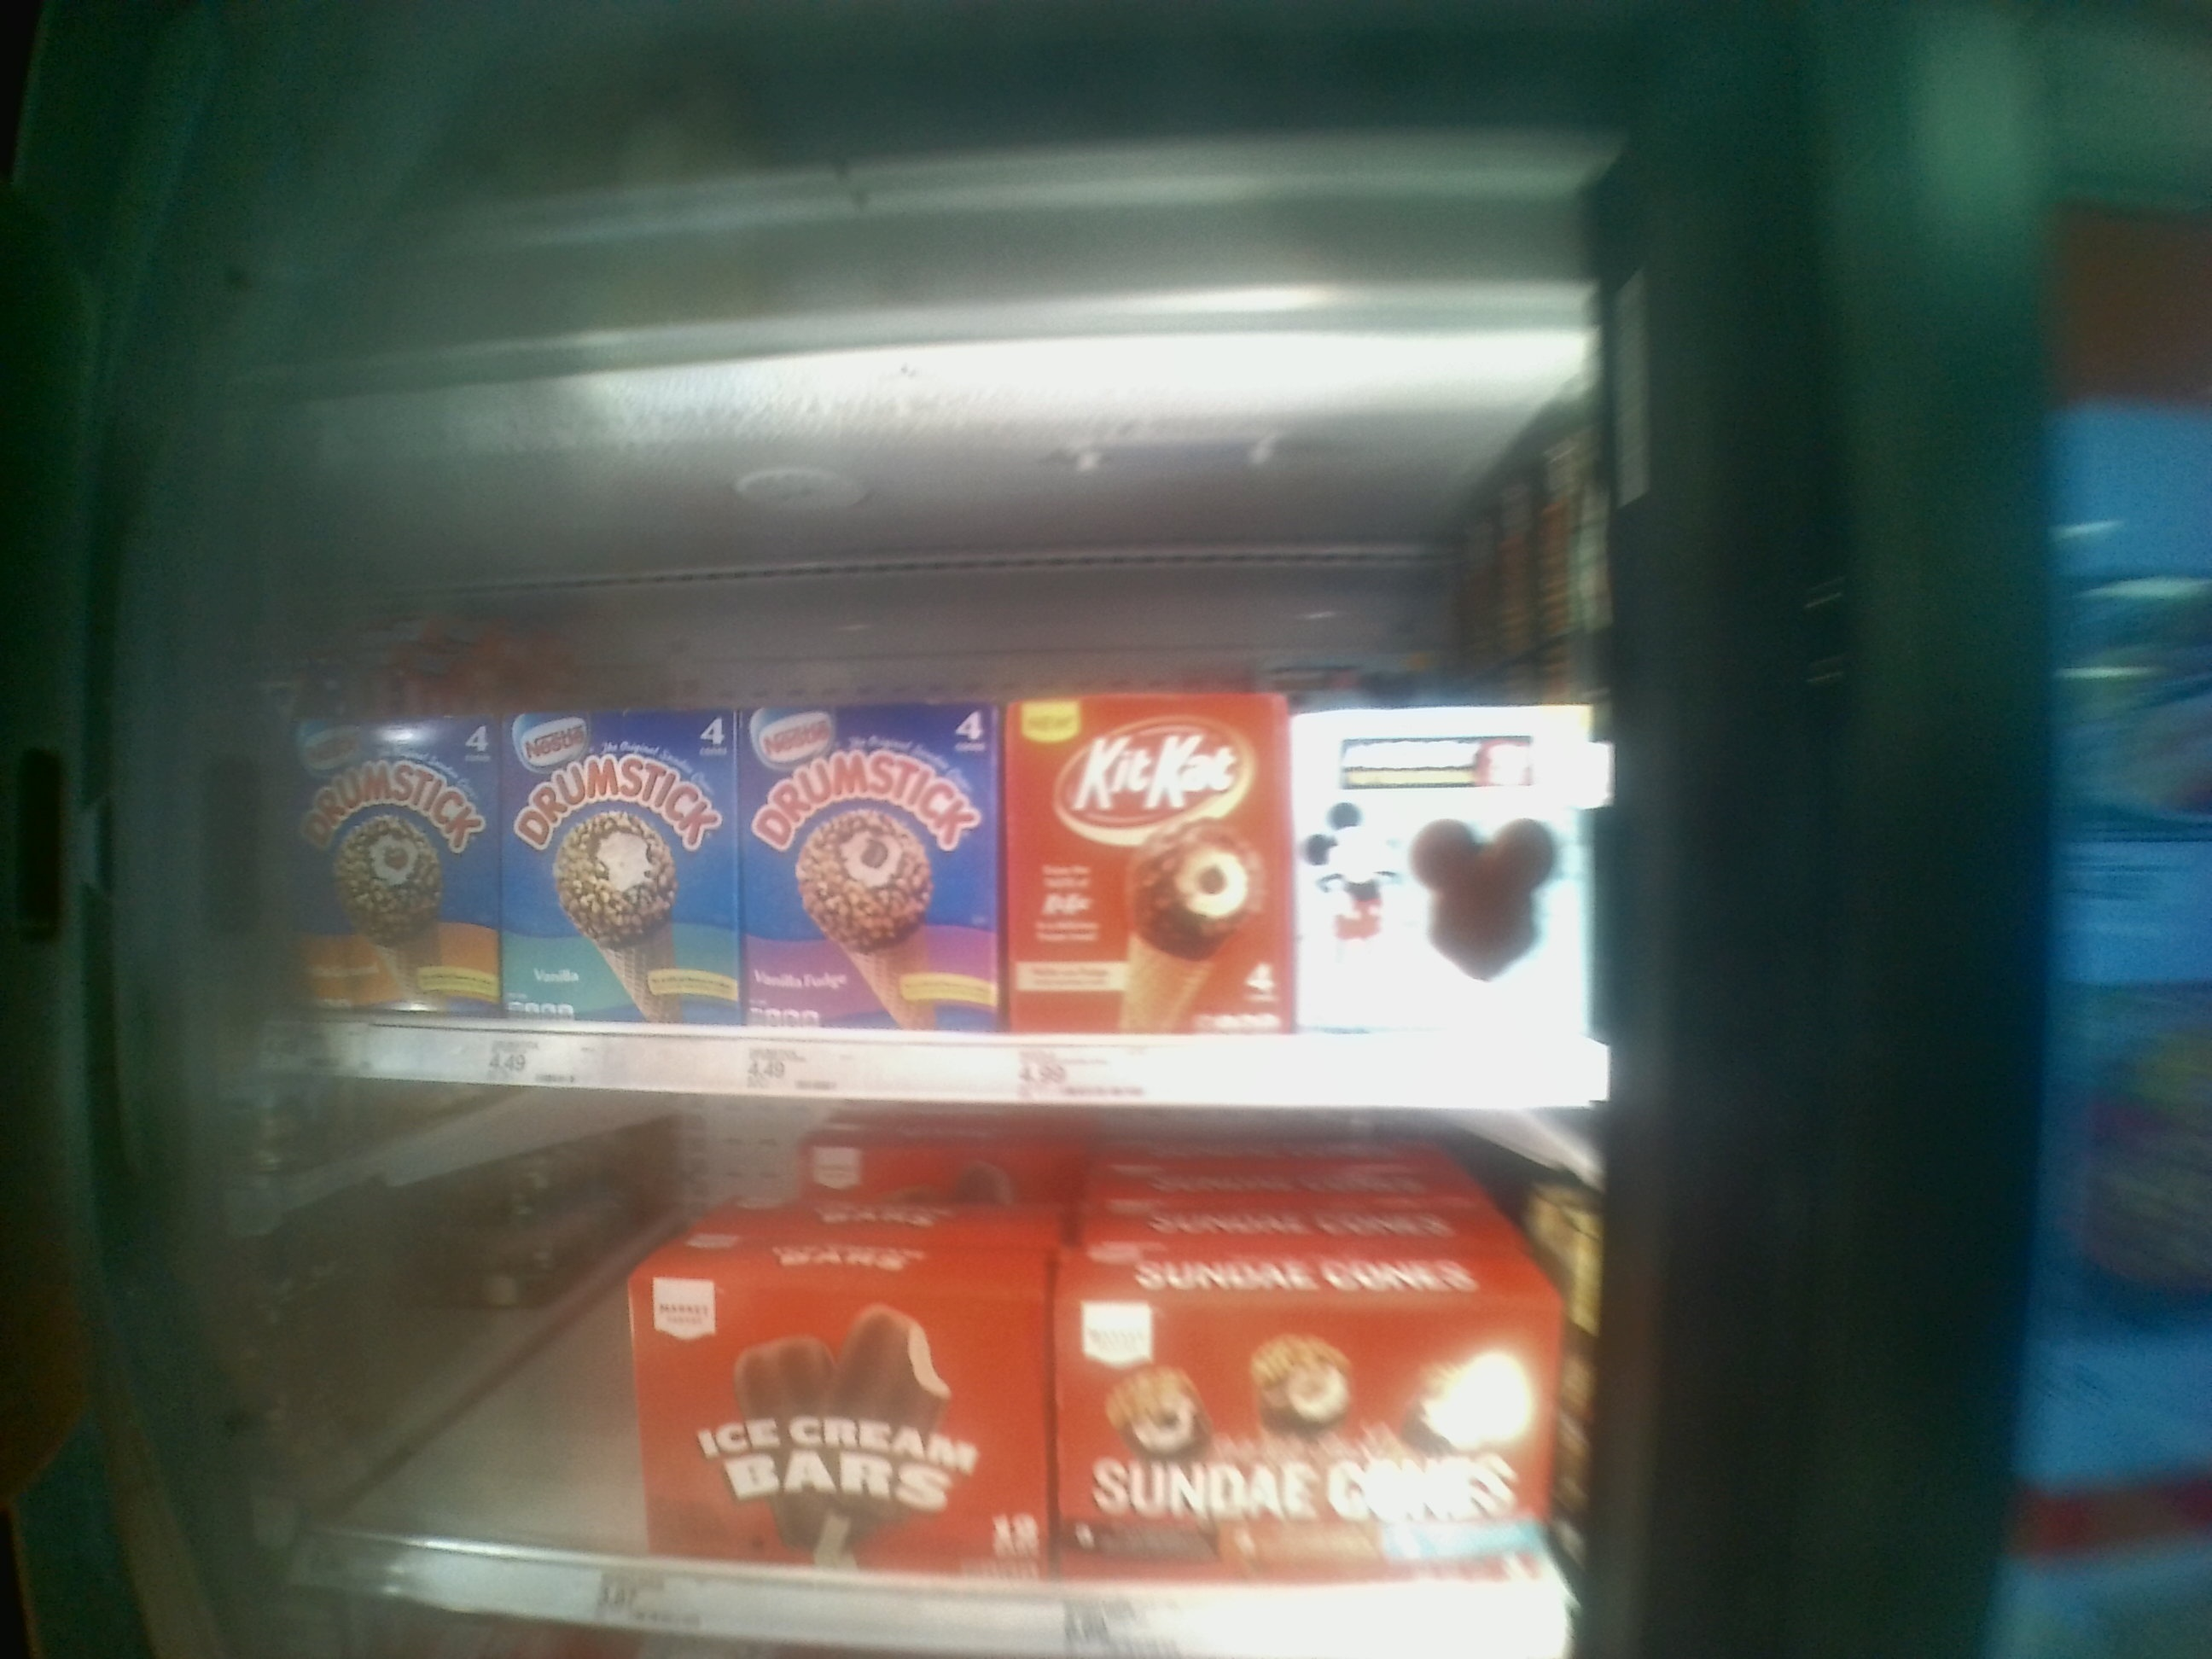shelf: (261, 633, 1609, 1105)
